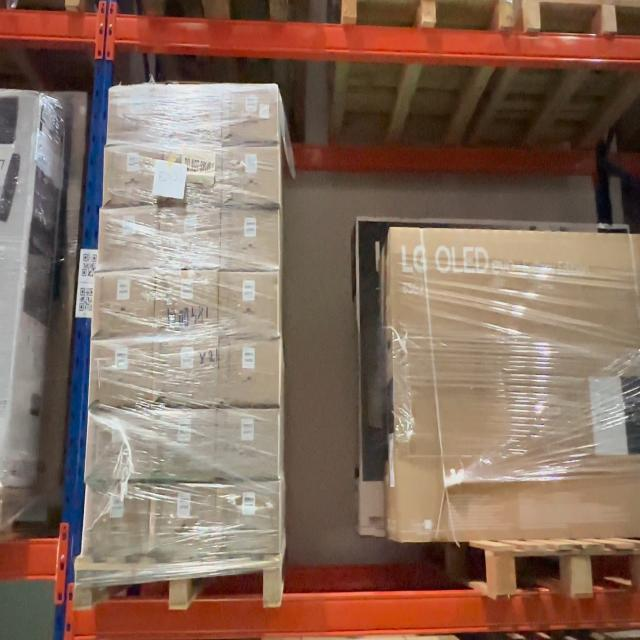box: (391, 227, 640, 537), (152, 486, 214, 560), (86, 485, 146, 561), (88, 410, 152, 479), (154, 337, 215, 403), (153, 412, 213, 479), (91, 341, 152, 406), (218, 339, 278, 405), (218, 486, 278, 551), (218, 412, 277, 478), (158, 270, 216, 330), (220, 275, 278, 335), (96, 274, 153, 335), (160, 209, 220, 265), (100, 210, 158, 267), (222, 210, 278, 269), (164, 148, 220, 205), (108, 86, 164, 142), (223, 86, 277, 143), (166, 87, 221, 142), (106, 147, 160, 202), (224, 150, 278, 204)
